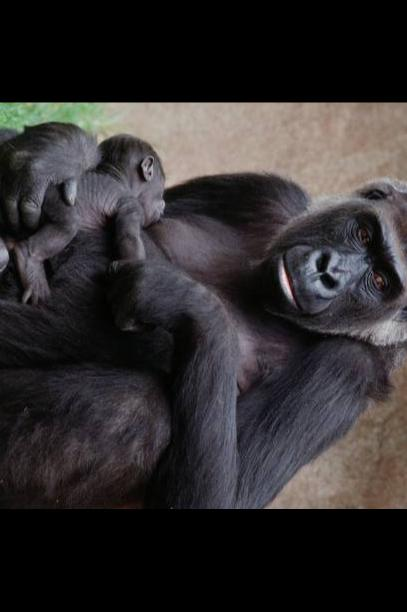gorille_Autres: (0, 120, 407, 501)
